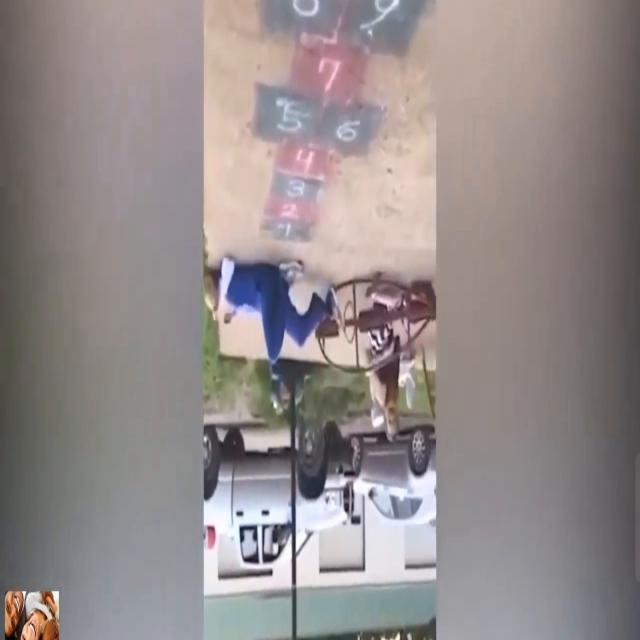fall: (205, 247, 328, 362), (366, 334, 408, 443)
